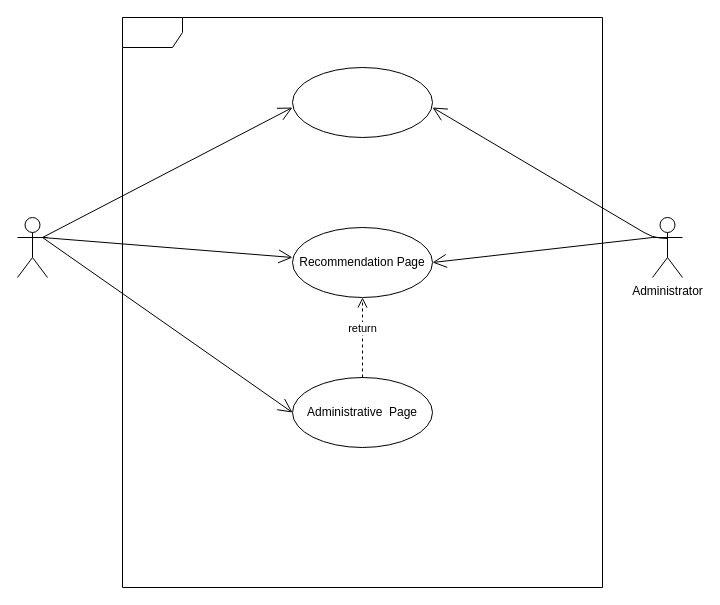
This 720x605 diagram has some shape labels left out. Each missing label, with the box of its shape:
Marketing Page: (292, 66, 432, 138)
User: (16, 216, 48, 278)
